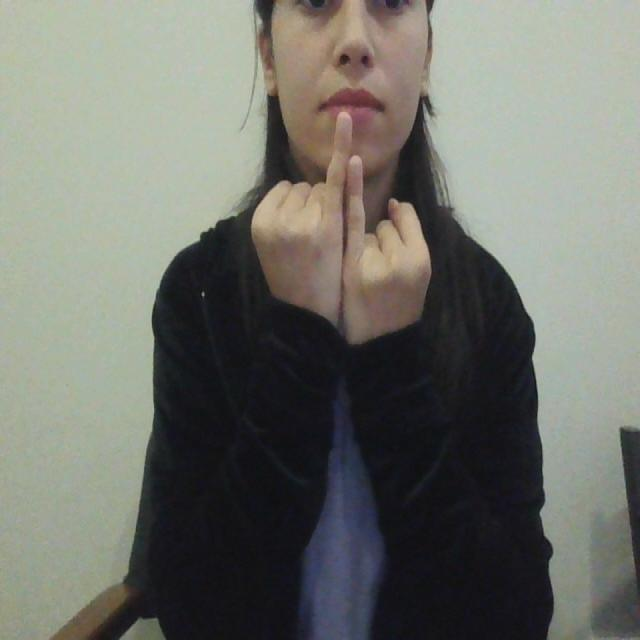Kardes: (248, 106, 439, 349)
